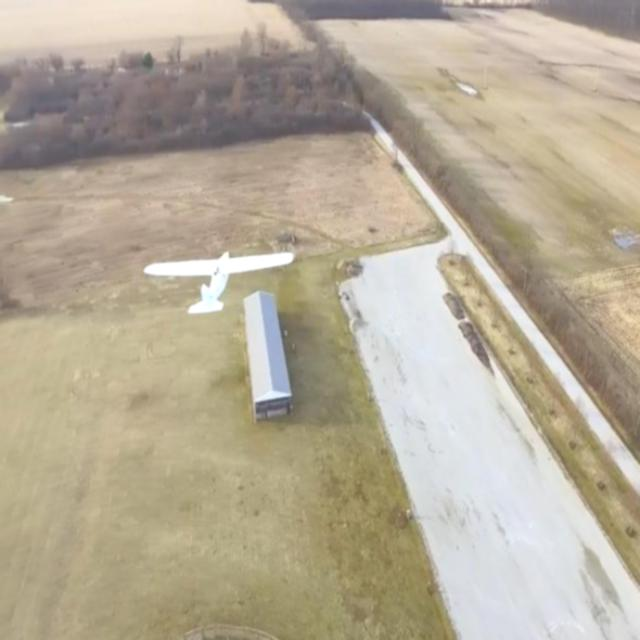plane: (143, 248, 296, 314)
